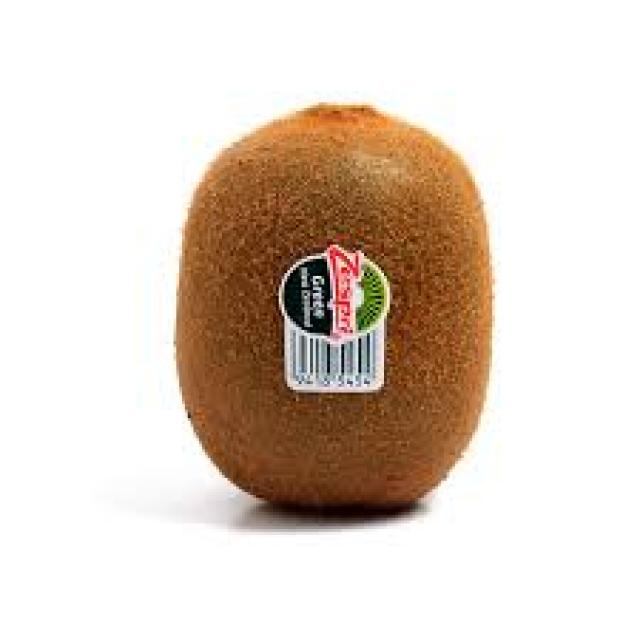organic waste: (176, 102, 481, 512)
